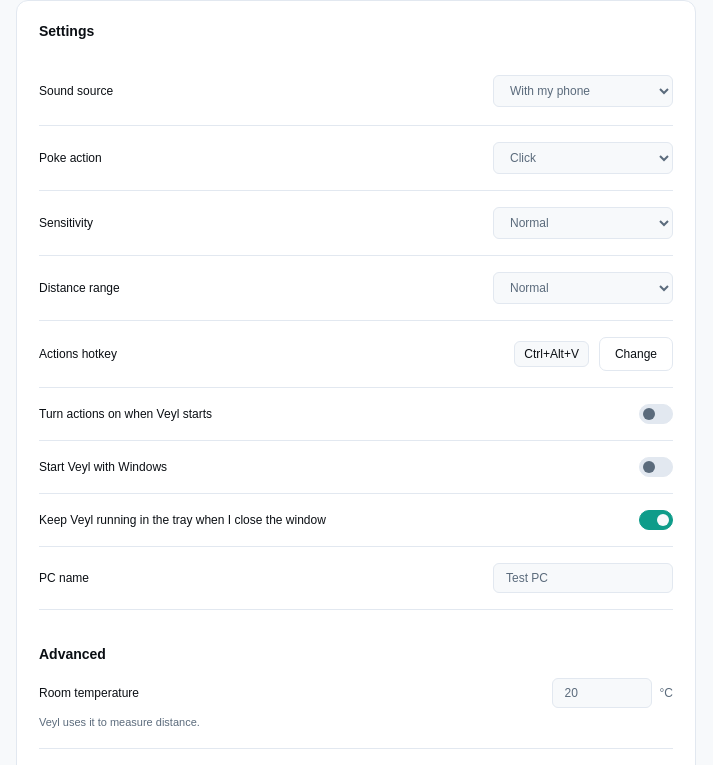
it: Change records the next key combination, and Escape keeps the old one
The image size is (713, 765).
Expected: the text "Ctrl+Alt+V" is shown, [514,341,589,367]
Click the button "Change" at (636, 354), box [599,337,673,371]
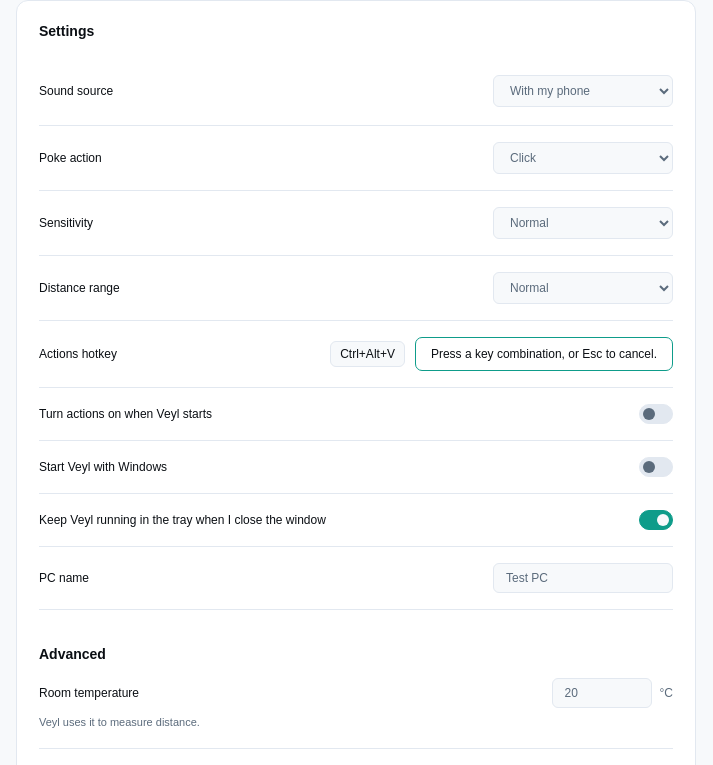
Result: the button named "Change" reads "Press a key combination, or Esc to cancel."
Press b in the button named "Change", box [415,337,673,371]
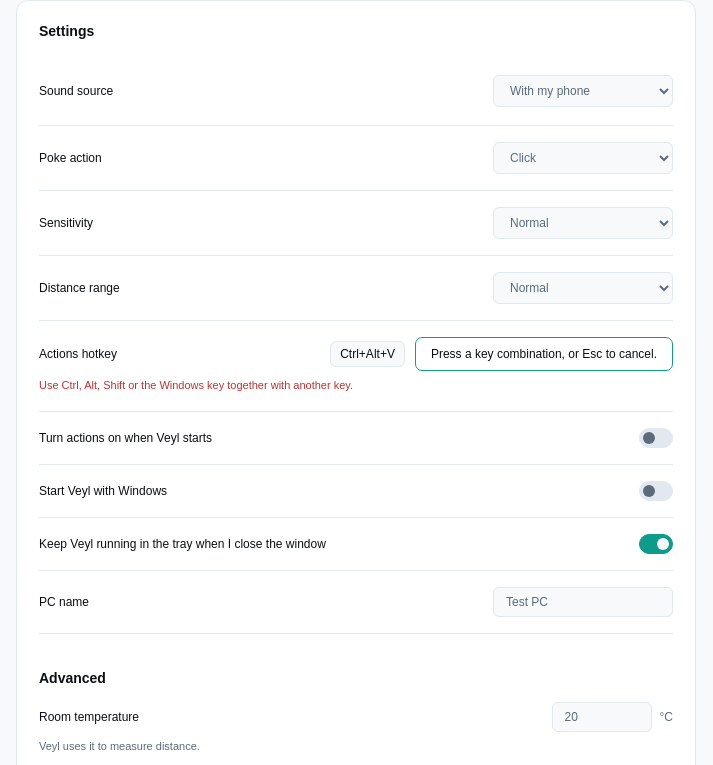
Result: the message reads "Use Ctrl, Alt, Shift or the Windows key together with another key." at [39,379,353,391]
Press Control in the button named "Change", box [415,337,673,371]
Press Escape in the button named "Change", box [415,337,673,371]
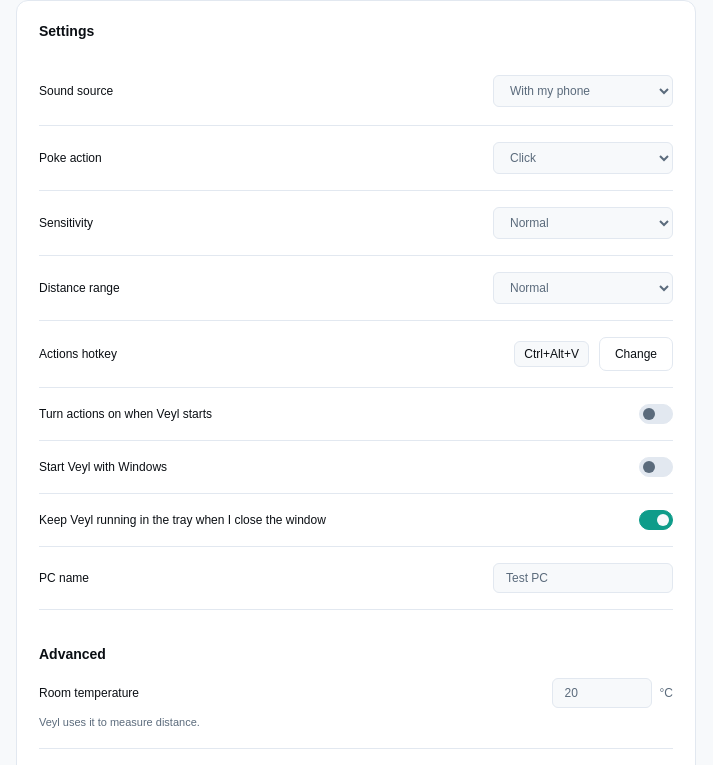
Result: the button "Change" is shown
Result: the message "Use Ctrl, Alt, Shift or the Windows key together with another key." is gone
Click the button "Change" at (636, 354), box [599,337,673,371]
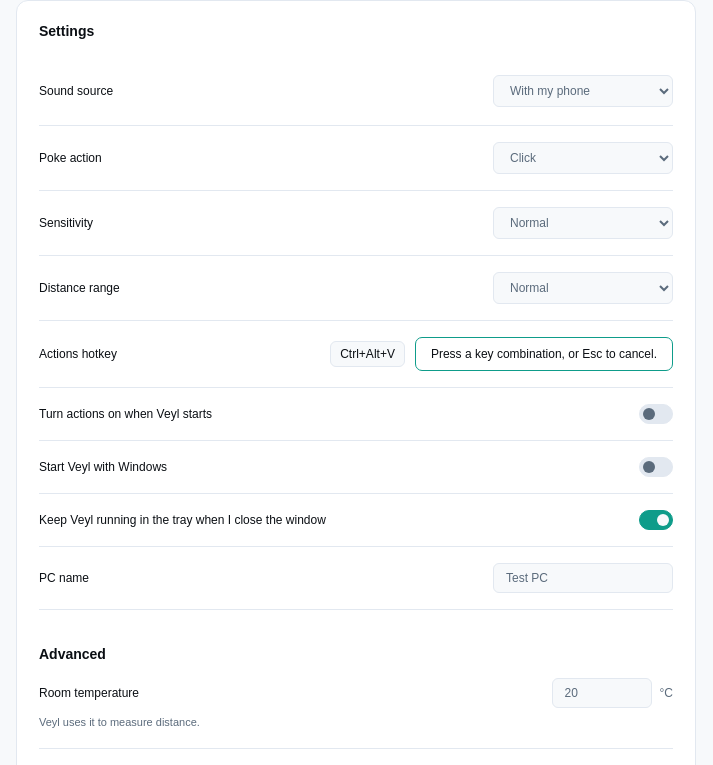
Press b in the button named "Change", box [415,337,673,371]
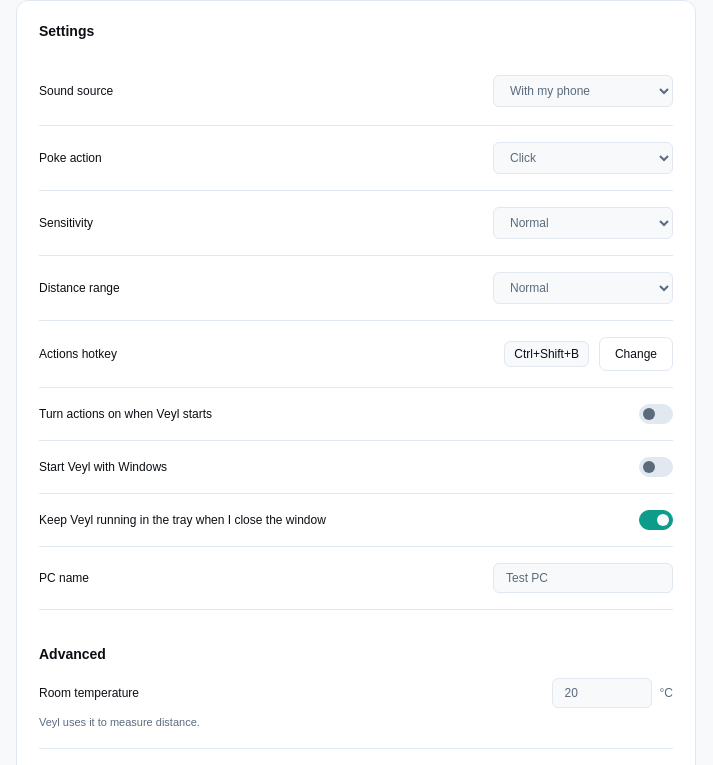
Result: the text "Ctrl+Shift+B" is shown at [504,341,589,367]
Result: the button "Change" is shown at [599,337,673,371]
